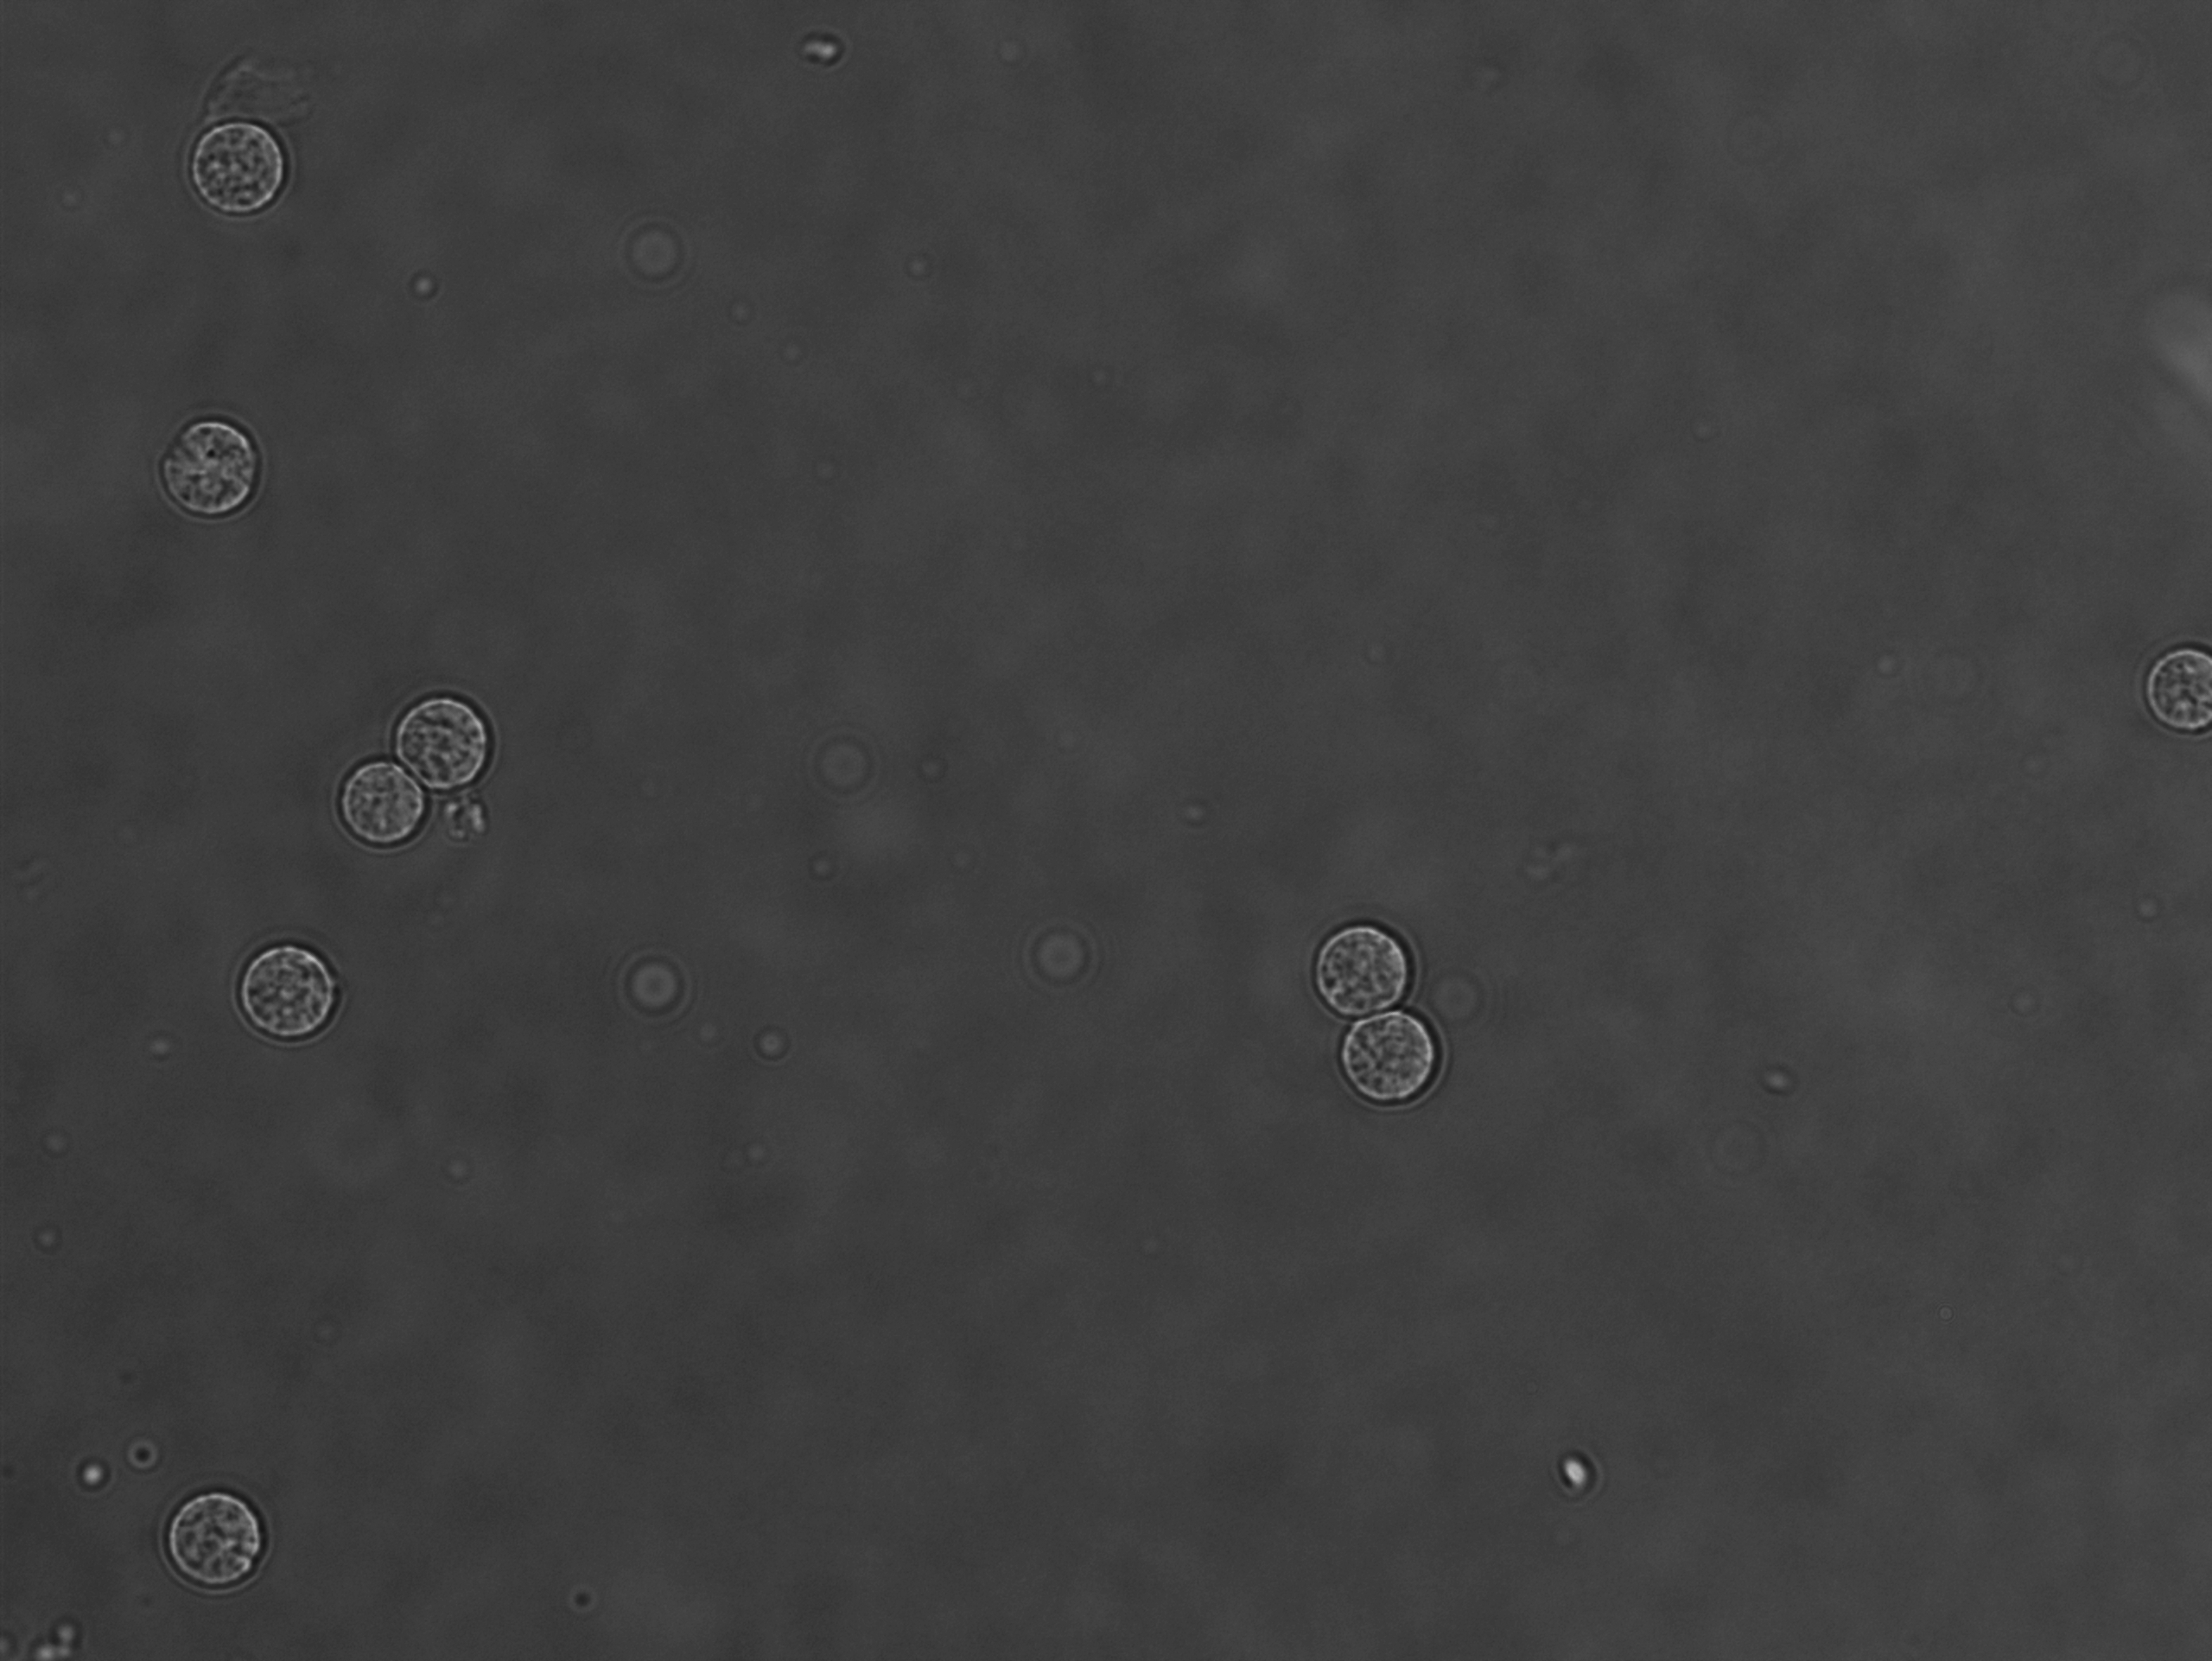depth:0: (162, 96, 307, 234), (225, 933, 370, 1070), (312, 717, 440, 865), (148, 1478, 288, 1607), (152, 384, 277, 525), (384, 673, 509, 806), (1296, 914, 1430, 1033), (1331, 991, 1453, 1113), (2123, 621, 2212, 759)
